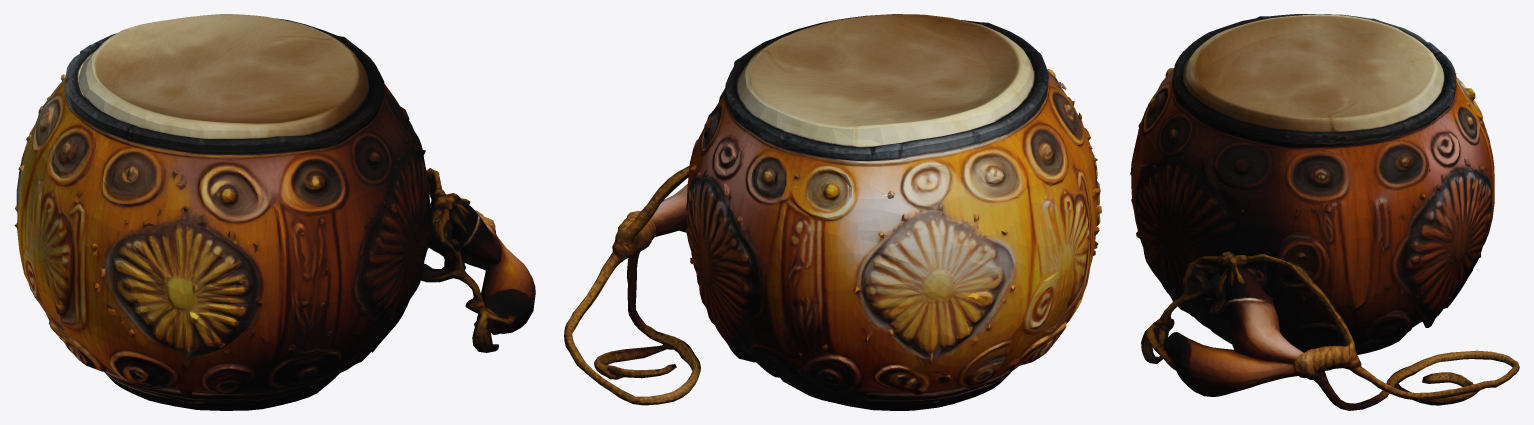
Rendered from coconut-shell-hand-drum-vintage.jpeg.glb.
The picture shows the model from 3 angles, left to right: view 1: azimuth 30°, elevation 25°; view 2: azimuth 150°, elevation 25°; view 3: azimuth 270°, elevation 25°; orthographic projection. The views are drawn at different scales.
Visible parts, largest first — view 1: world; view 2: world; view 3: world.
Boxes of the visible parts, x1,y1,x2,y2 form: world: (14, 14, 535, 410); world: (564, 14, 1101, 410); world: (1130, 14, 1519, 410).
Size of the model in its own units: 0.9732 by 0.6131 by 0.843.
Materials: 1 (1 with a texture image).
